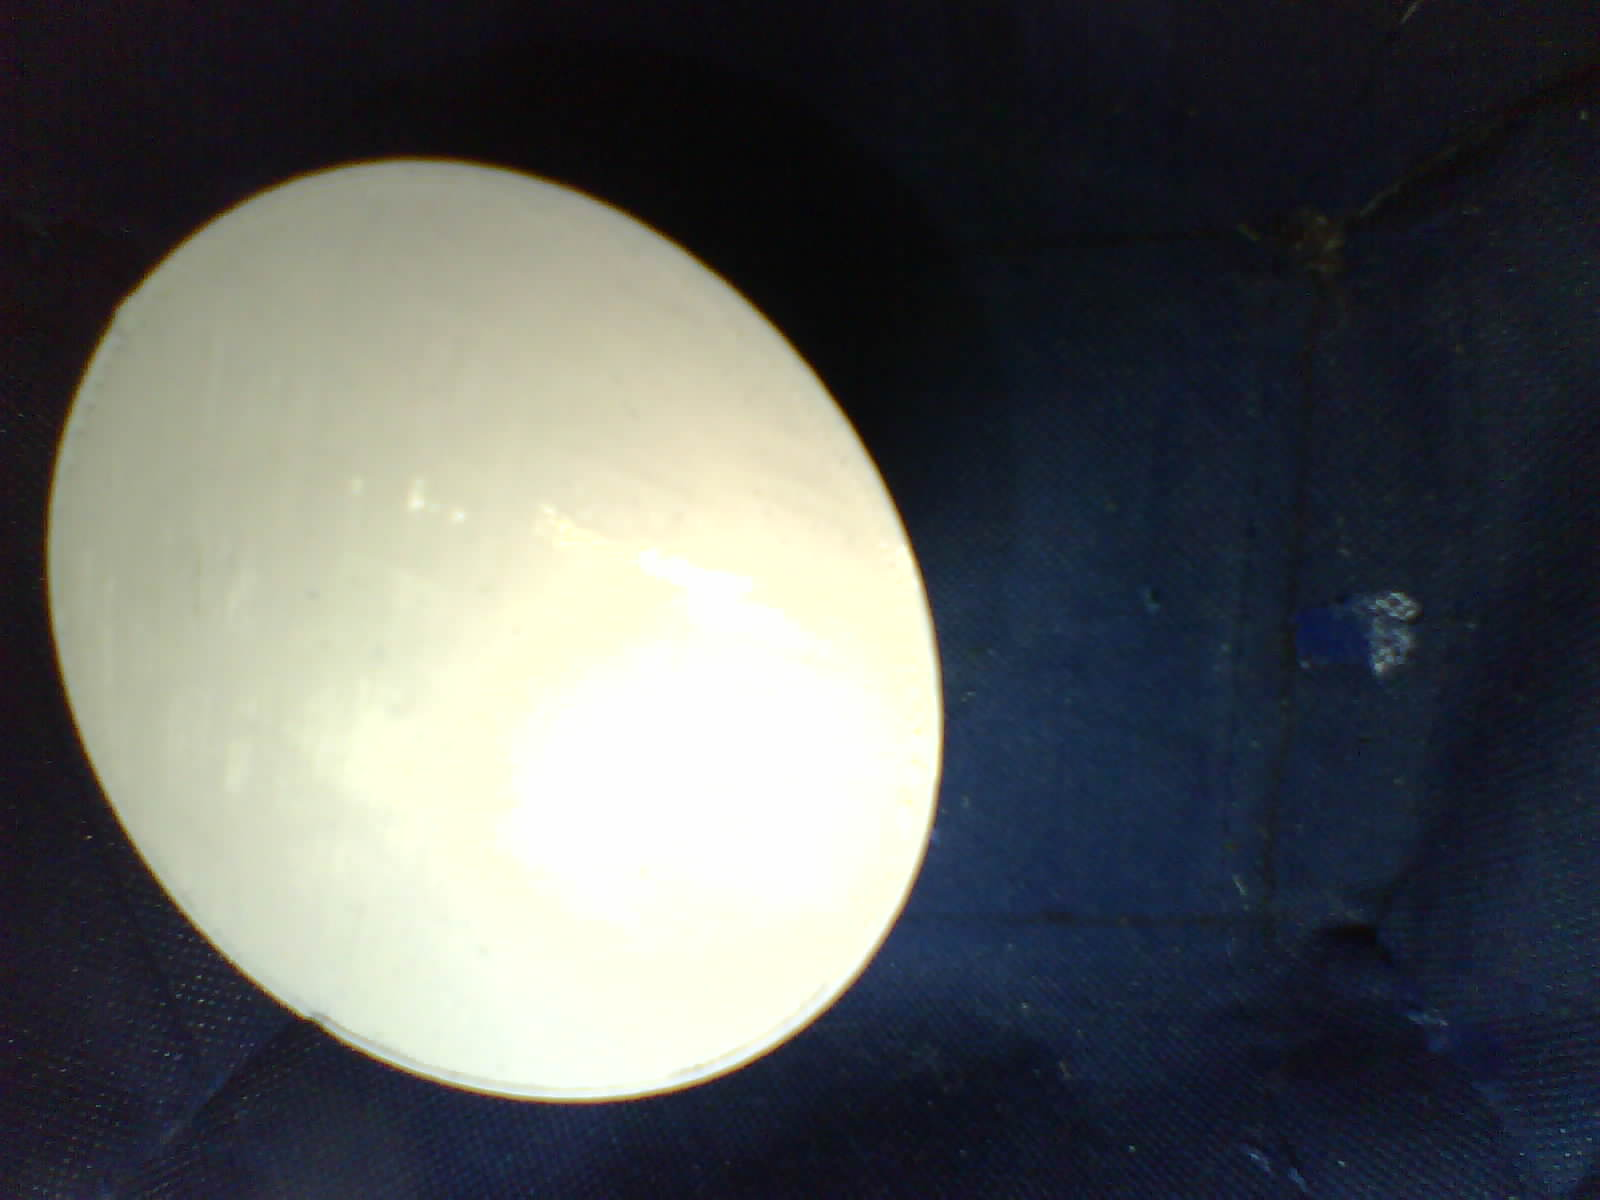cylinder-hard: (42, 139, 969, 1119)
